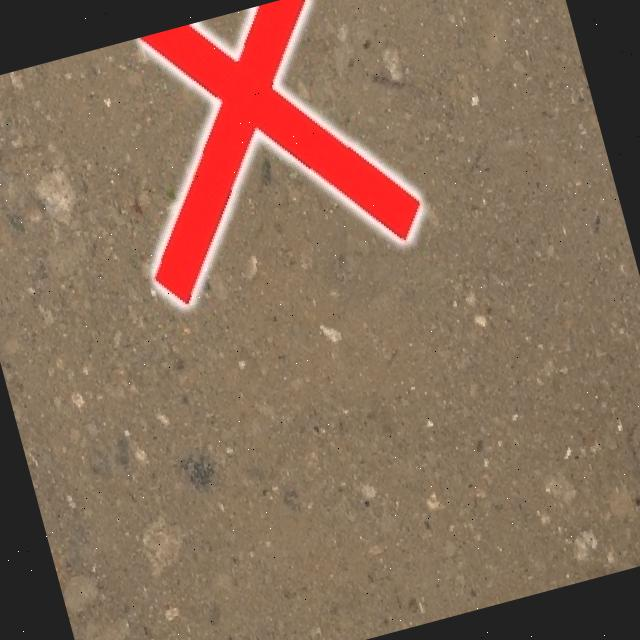x_marker: (93, 0, 427, 307)
